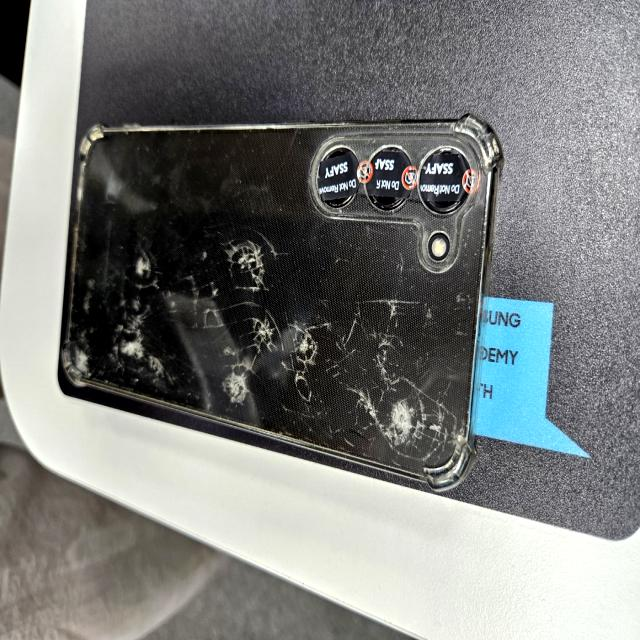phone: (59, 118, 496, 495)
sticker: (418, 148, 469, 208), (364, 146, 412, 208), (313, 154, 357, 207)
